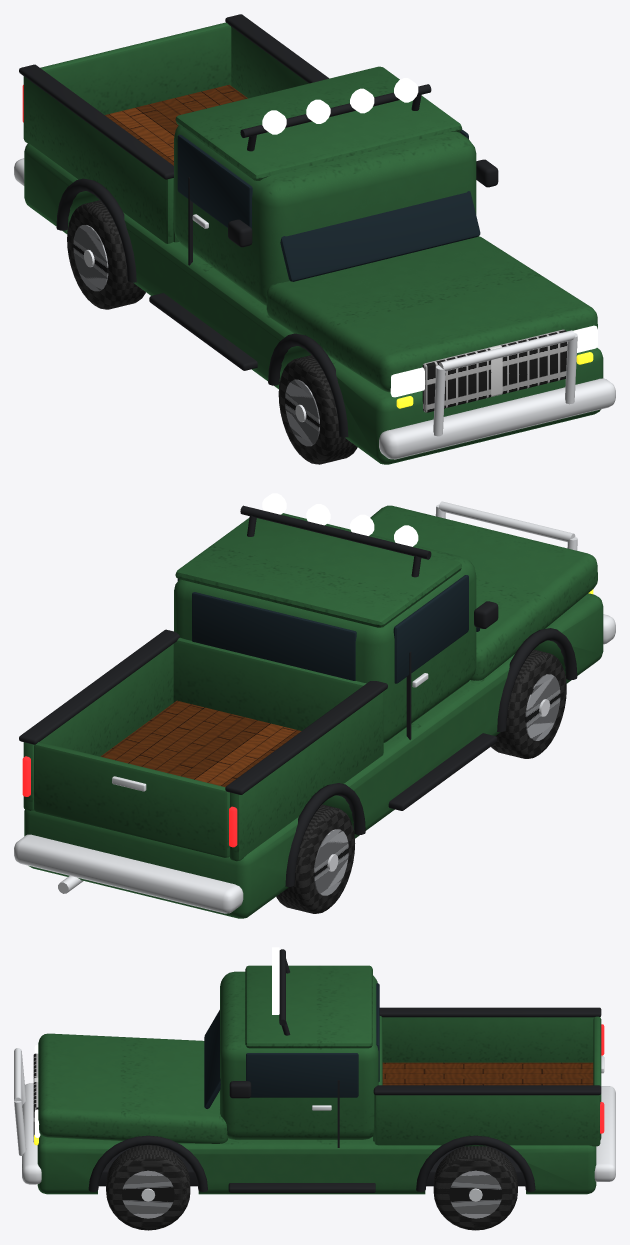
File: pickup-green.glb
3 views of the same model, one above another, from view 1: azimuth 30°, elevation 25°; view 2: azimuth 150°, elevation 25°; view 3: azimuth 270°, elevation 25° (orthographic). The views are drawn at different scales.
Visible parts, largest first — view 1: pickup-green; view 2: pickup-green; view 3: pickup-green.
Part boxes in pixels (<box>): pickup-green: <box>14,14,615,464</box>; pickup-green: <box>14,493,615,918</box>; pickup-green: <box>14,947,615,1230</box>.
Bounding box in the file's own units: 2.36 × 2.41 × 6.14.
Materials: 11 (5 with a texture image).
